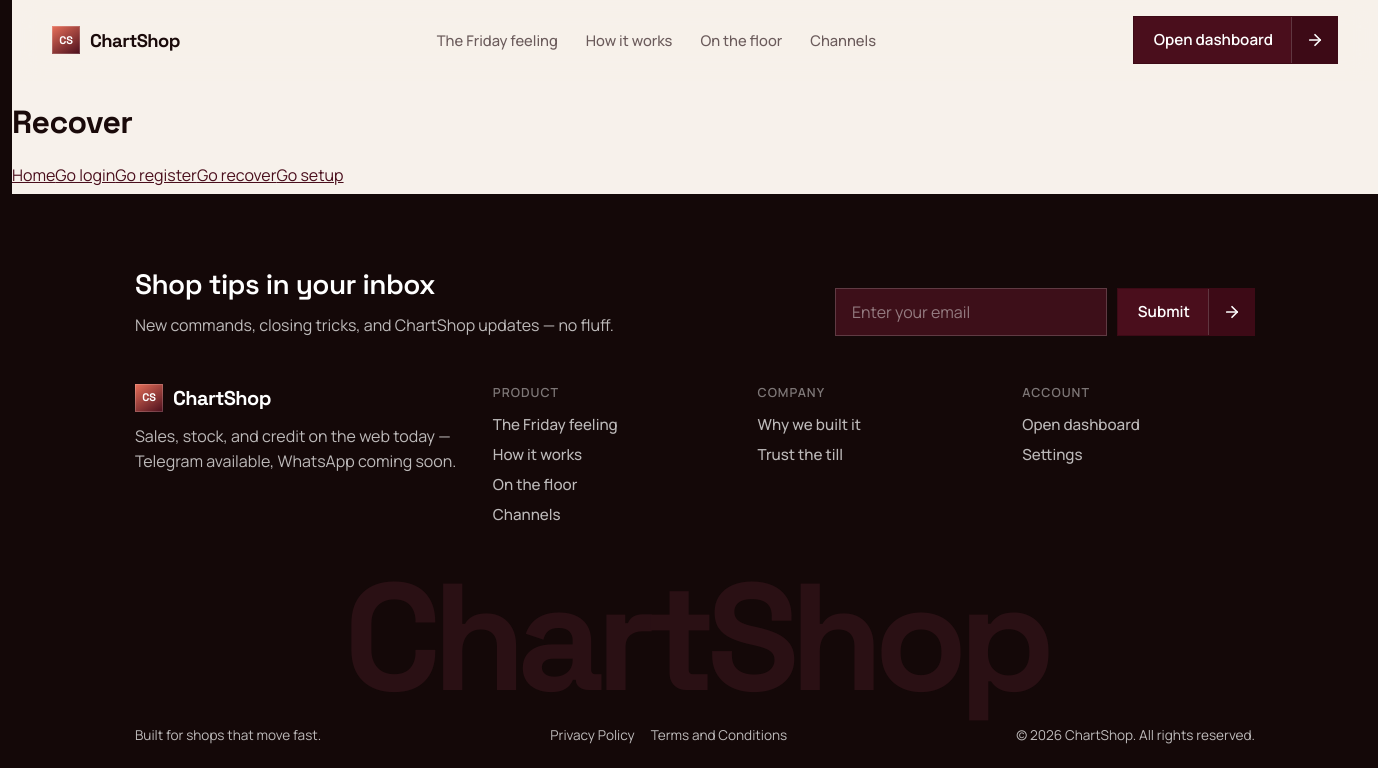
it: scroll behaviour › SiteLayout › resets window scroll when navigating /recover → next marketing route
The width and height of the screenshot is (1378, 768).
Click the link "Go setup". click: (310, 175)
box: [276,164,344,186]
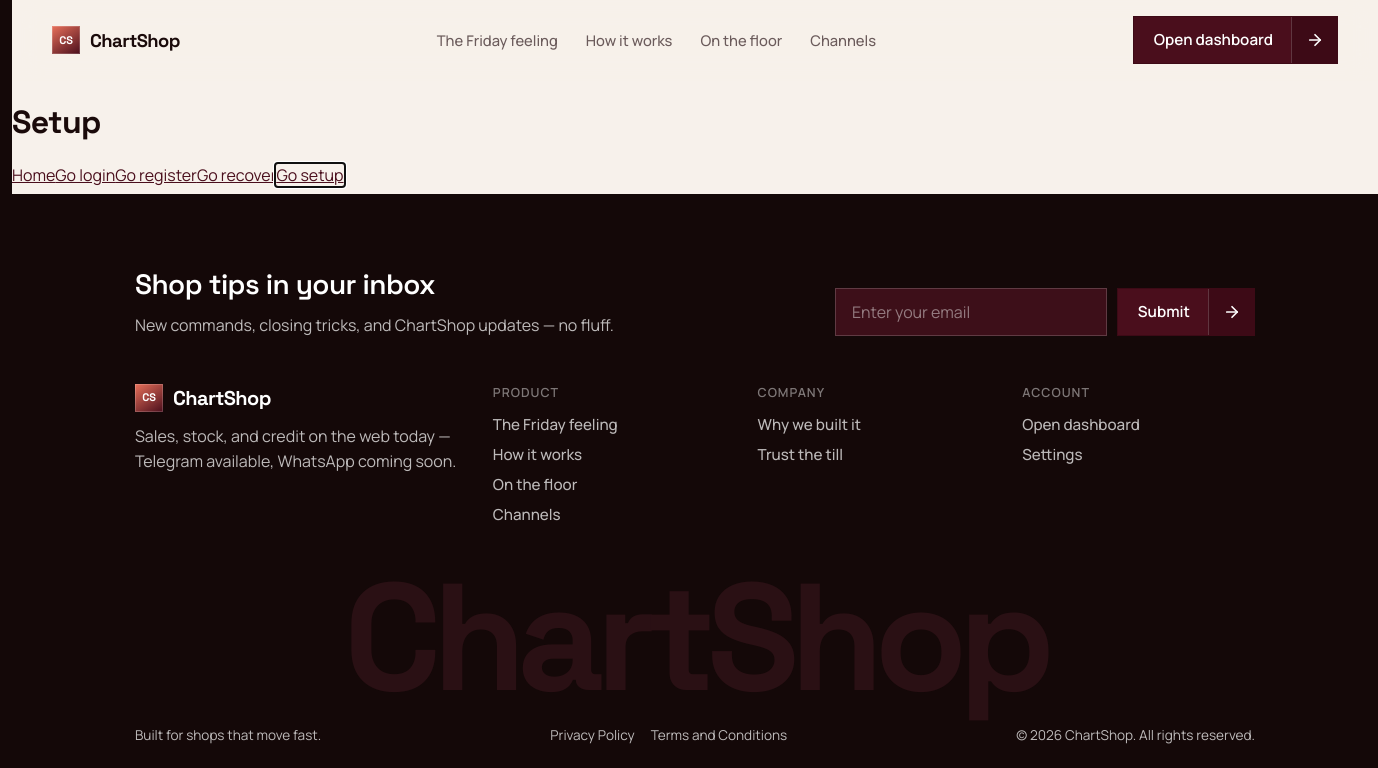
Now the heading "Setup" is shown, box [12,102,101,142]
